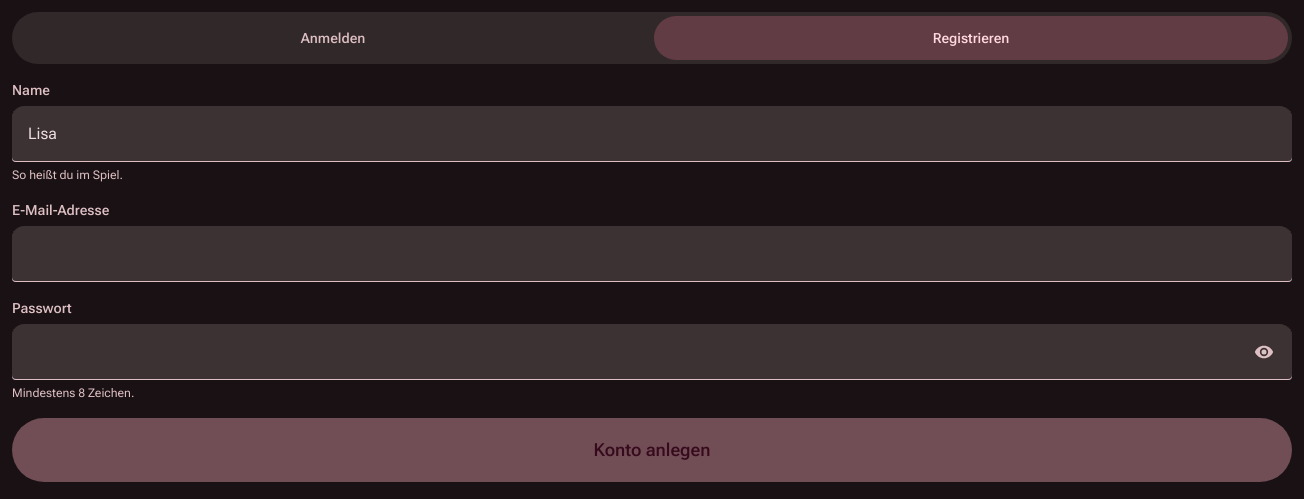
EmailAuth › registers with name, address and password, then says to check the inbox
Check: the field labelled "Name" holds "Lisa", box [12,106,1292,162]
Type "lisa@example.com" into the field labelled "E-Mail-Adresse" at (652, 254), box [12,226,1292,282]
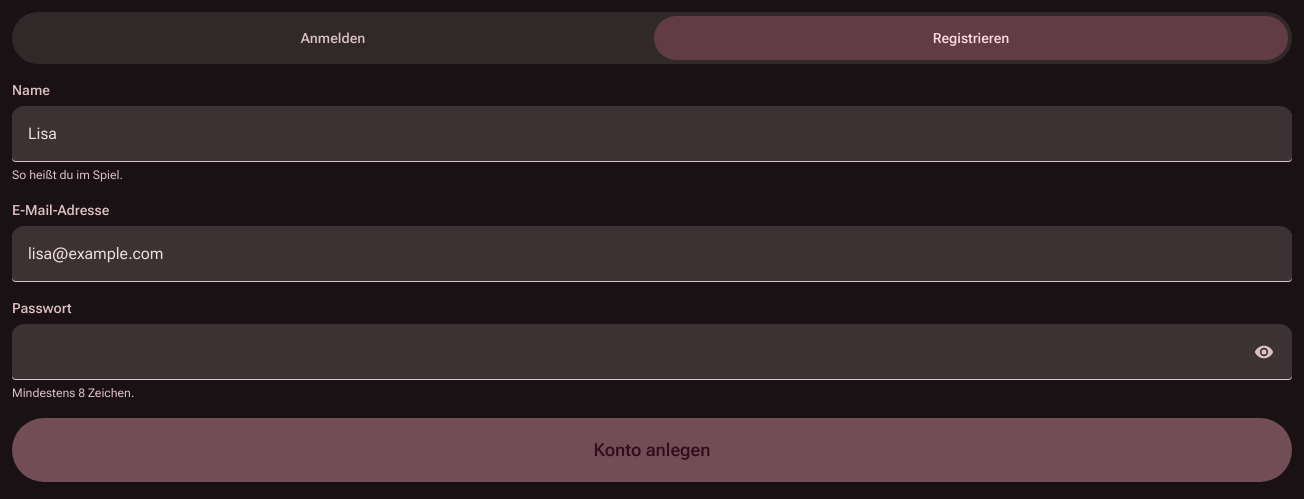
Type "kurz" into the password field labelled "Passwort" at (652, 352), box [12,324,1292,380]
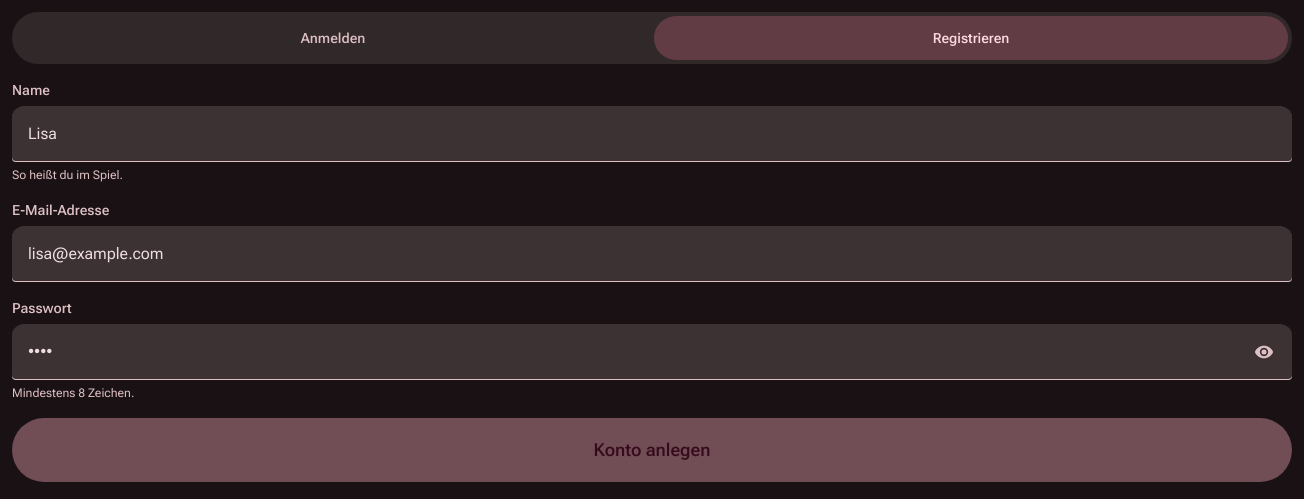
Check: the button "Konto anlegen" is disabled, box [12,418,1292,482]
Type "geheim123" into the password field labelled "Passwort" at (652, 352), box [12,324,1292,380]
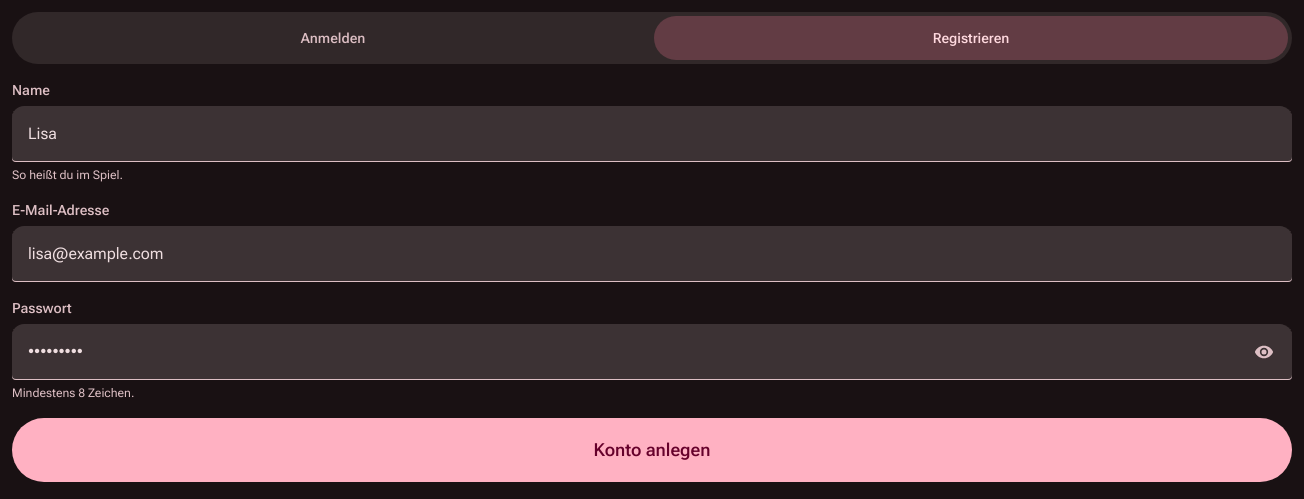
Click the button "Konto anlegen" at (652, 450), box [12,418,1292,482]
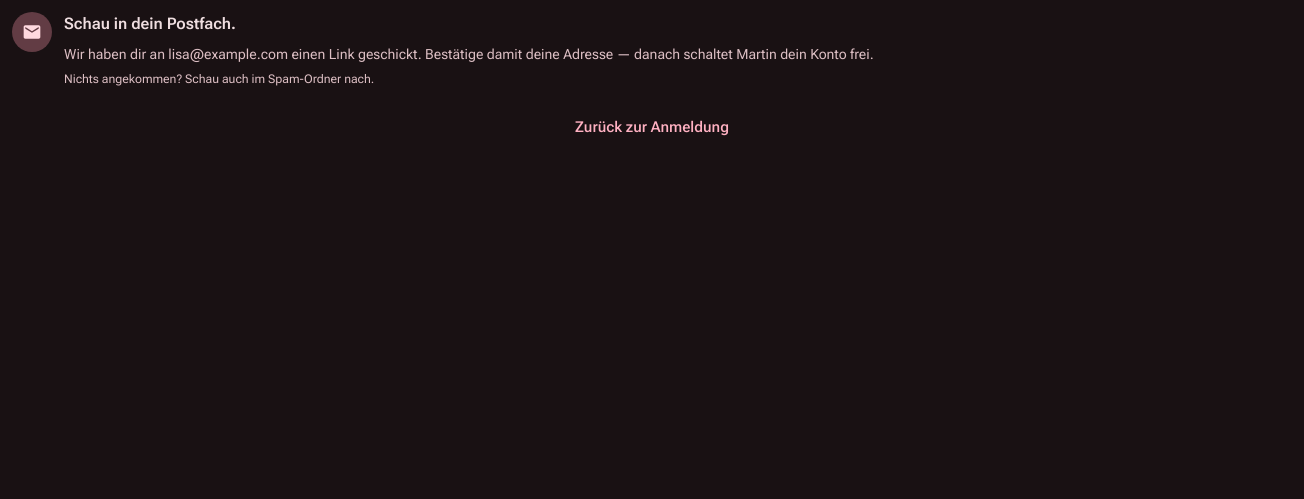
Check: the text "Schau in dein Postfach." is shown, box [64,14,236,33]
Check: the text "lisa@example.com" is shown, box [64,46,874,62]
